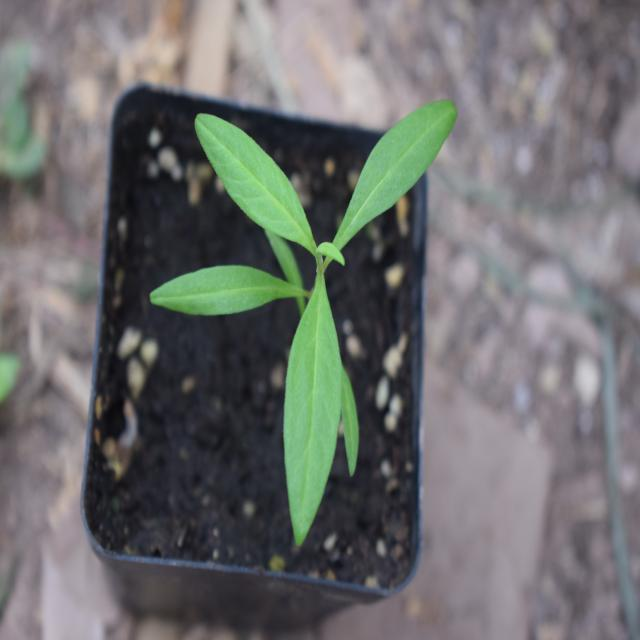white_smart_weed: (145, 80, 451, 523)
